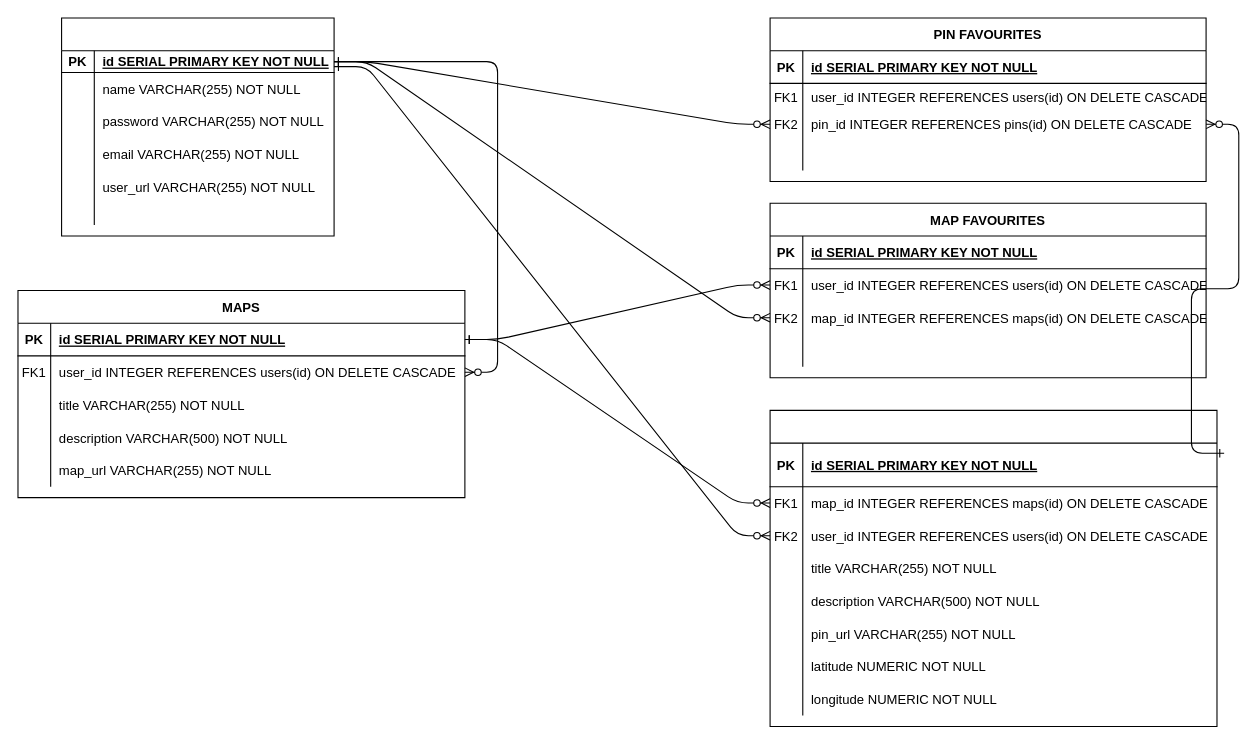
Image size: 1257x744. Some labels were removed from this diagram. Each missing label, with the box of its shape:
PINS: (769, 409, 1217, 726)
USERS: (60, 17, 334, 236)
